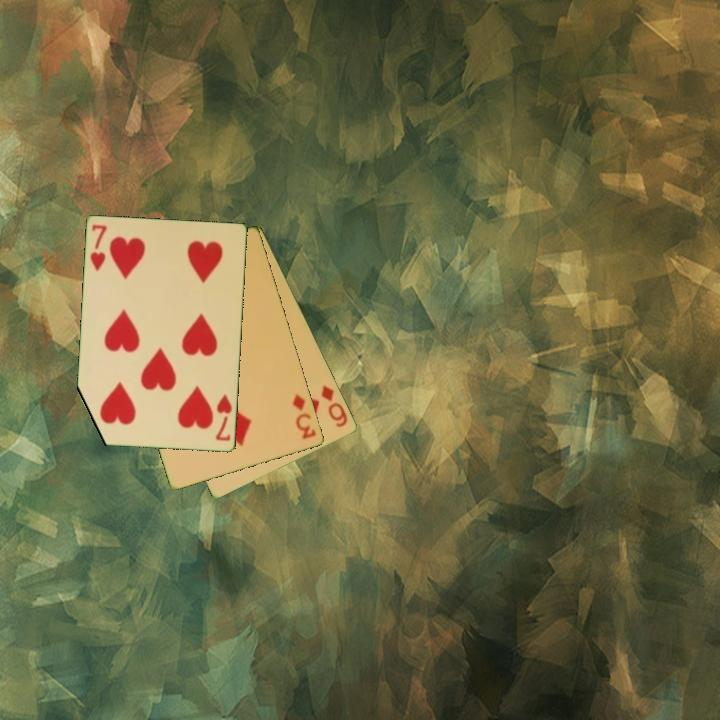3d: (289, 391, 319, 442)
6d: (318, 382, 351, 430)
7h: (212, 390, 235, 444), (87, 222, 110, 274)
